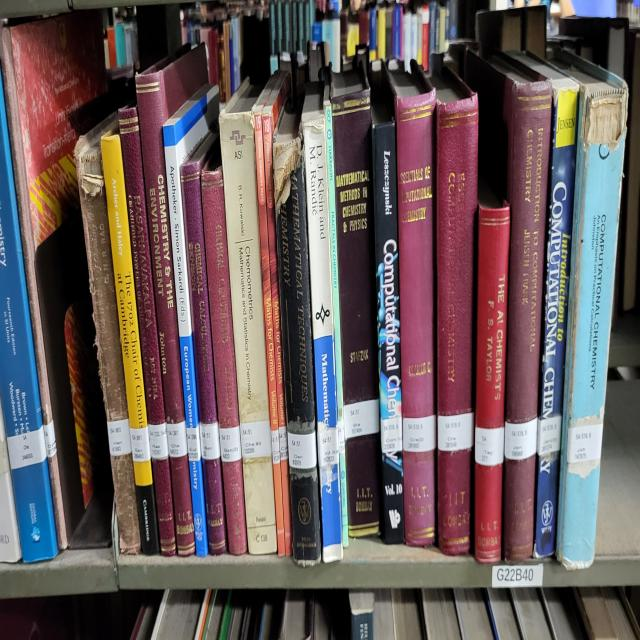Book: (466, 54, 551, 563), (551, 51, 628, 568), (135, 46, 206, 555), (0, 27, 68, 549), (75, 114, 141, 555), (0, 78, 58, 563), (220, 84, 278, 555), (162, 84, 219, 557), (119, 106, 176, 555), (101, 130, 160, 555), (431, 62, 479, 555), (330, 65, 380, 538), (388, 62, 436, 547), (534, 65, 579, 557), (181, 133, 228, 555), (301, 87, 342, 563), (201, 154, 248, 555), (275, 160, 321, 565), (254, 73, 286, 555), (371, 103, 404, 544), (261, 100, 292, 555), (475, 189, 510, 563), (324, 87, 349, 547)
Label: (8, 425, 46, 471), (438, 411, 474, 452), (566, 422, 602, 463), (504, 417, 538, 460), (344, 398, 379, 438), (402, 414, 436, 452), (240, 419, 271, 457), (475, 427, 504, 465), (288, 430, 316, 468), (538, 414, 561, 457), (318, 425, 339, 468), (108, 419, 131, 457), (166, 419, 188, 457), (219, 425, 241, 463), (130, 425, 151, 463), (148, 422, 169, 460), (200, 422, 220, 460), (381, 417, 402, 452), (186, 425, 201, 463), (44, 419, 56, 457), (279, 425, 289, 460), (271, 430, 280, 465)
